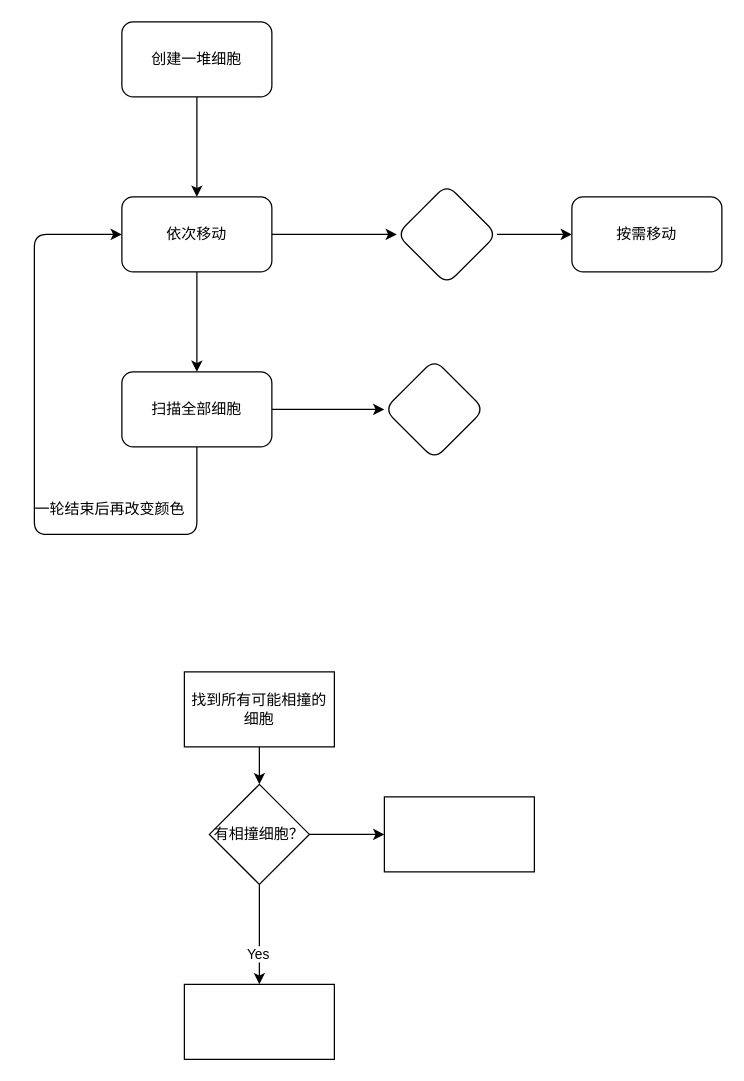
The diagram is 744 pixels wide and 1081 high, and some of its shapes have lost their labels. Each missing label, with the centre of its shape:
变颜色？: pixel 433 408
是否会撞？: pixel 446 233
计算移动的最小距离: pixel 258 1021
